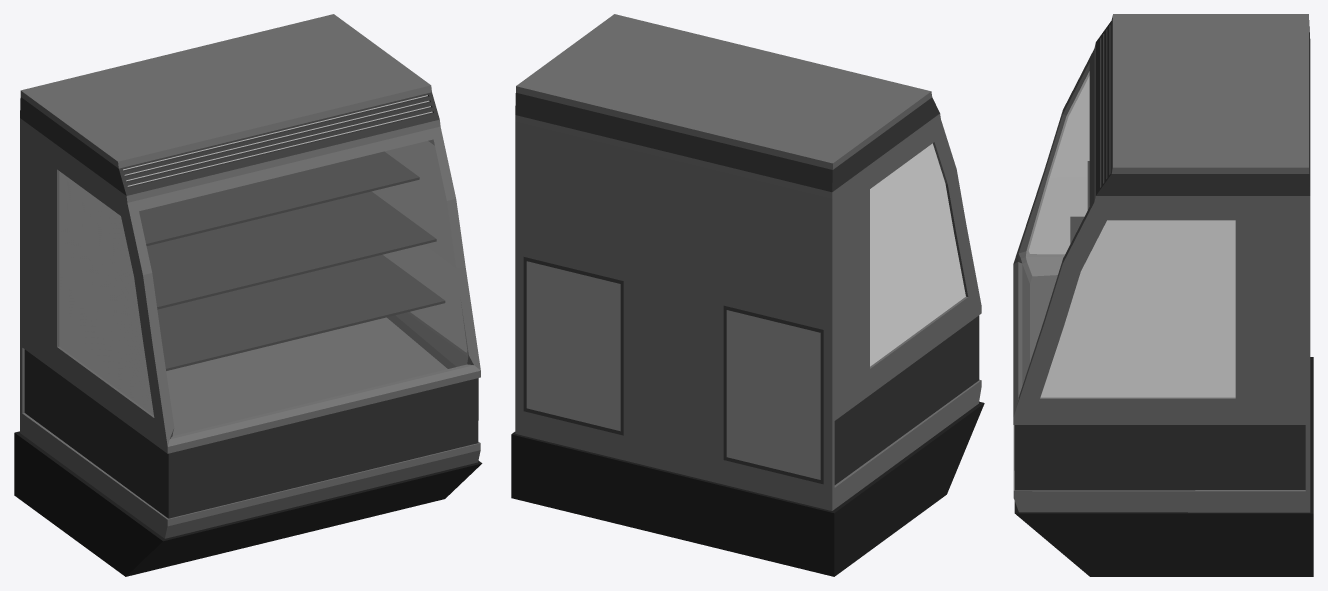
Rendered from Fridge Display #2.fbx.
The picture shows the model from 3 angles, left to right: view 1: azimuth 30°, elevation 25°; view 2: azimuth 150°, elevation 25°; view 3: azimuth 270°, elevation 25°; orthographic projection.
Visible parts, largest first — view 1: Fridge Display #2; view 2: Fridge Display #2; view 3: Fridge Display #2.
Boxes of the visible parts, x1,y1,x2,y2 form: Fridge Display #2: (14, 14, 482, 576); Fridge Display #2: (511, 14, 984, 576); Fridge Display #2: (1013, 14, 1313, 576).
Size of the model in its own units: 129 by 157 by 104.
3 materials, 2 textured.
